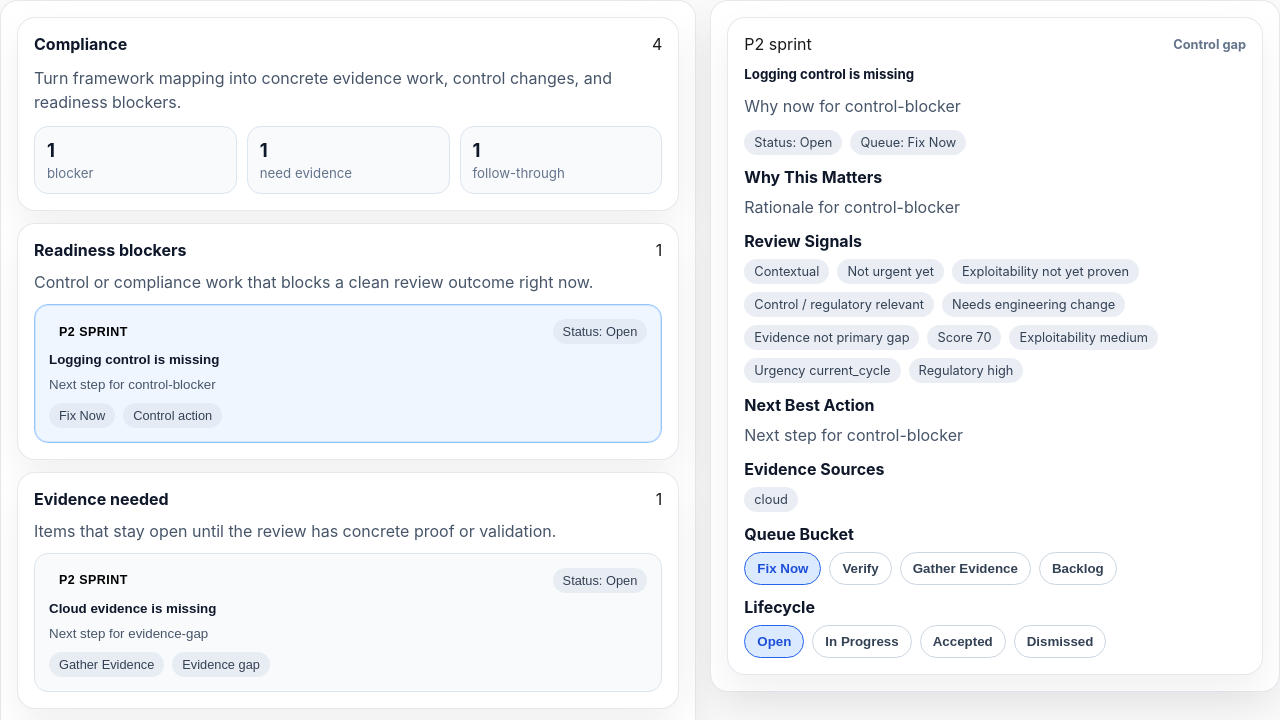
Scenario: SecurityReviewCompliancePanel › groups compliance work into blockers, evidence, follow-through, and resolved
Expected: the heading "Compliance" is shown, [34, 34, 127, 54]
Expected: the heading "Readiness blockers" is shown, [34, 240, 186, 260]
Click the button "Cloud evidence is missing": point(93, 580) [34, 553, 662, 692]
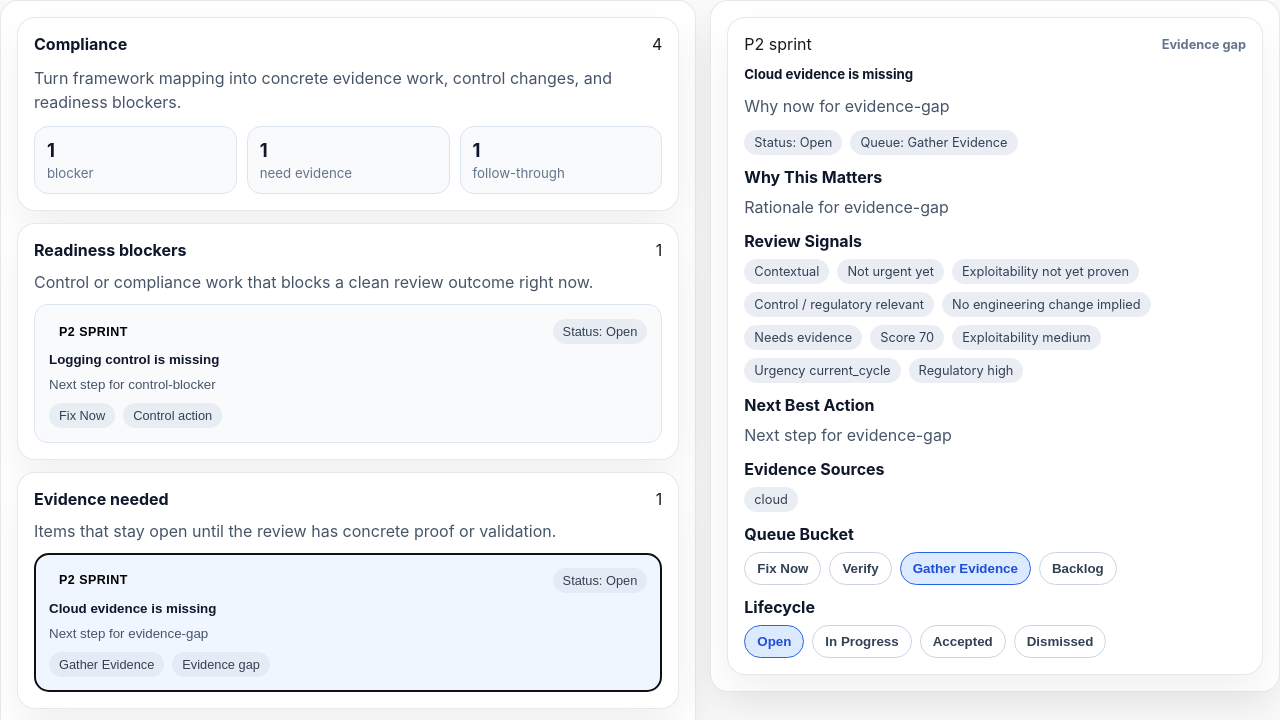
Expected: the element "Cloud evidence is missing" is shown, [727, 17, 1263, 675]
Expected: the text "Next step for evidence-gap" below "Next Best Action" is shown, [744, 425, 952, 445]
Expected: the 1st text "Evidence gap" is shown, [1162, 36, 1246, 52]
